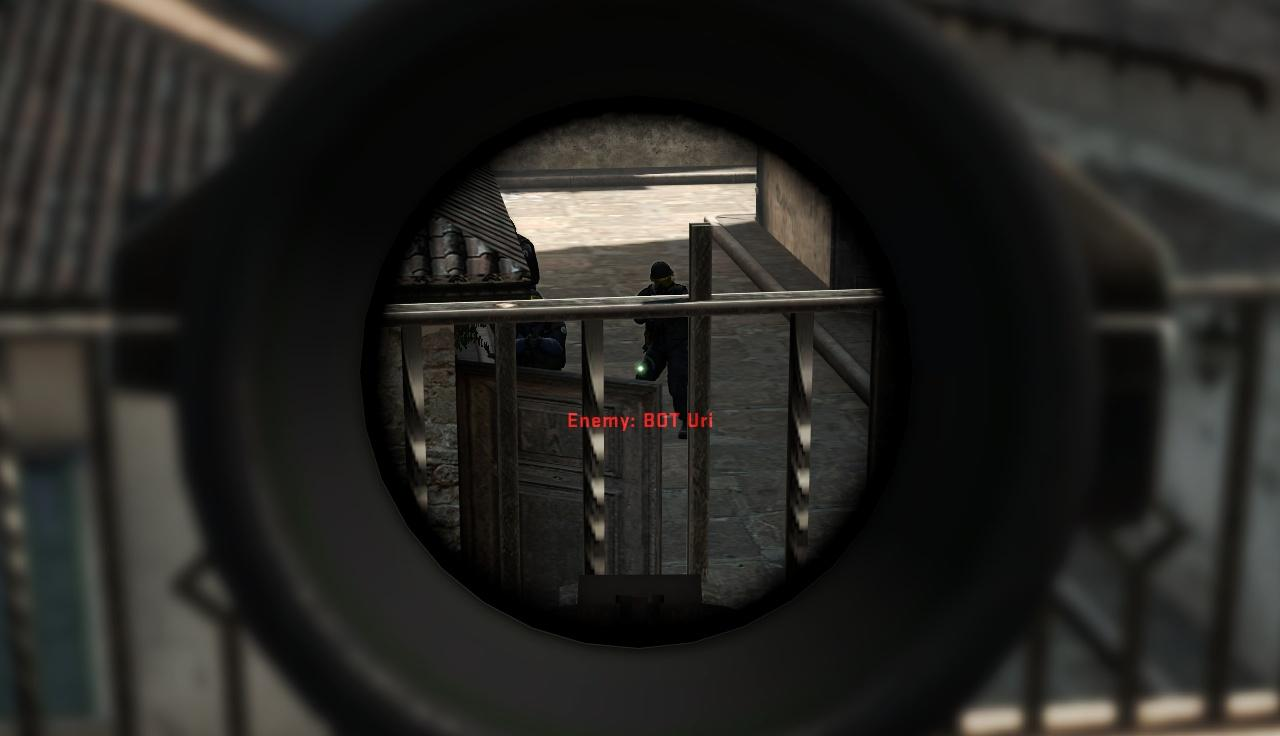ct: (639, 261, 688, 378)
cthead: (649, 263, 675, 286)
